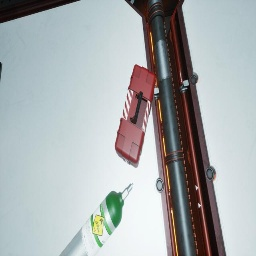0: (59, 183, 133, 256)
FirstAidBox ,: (115, 64, 156, 168)
